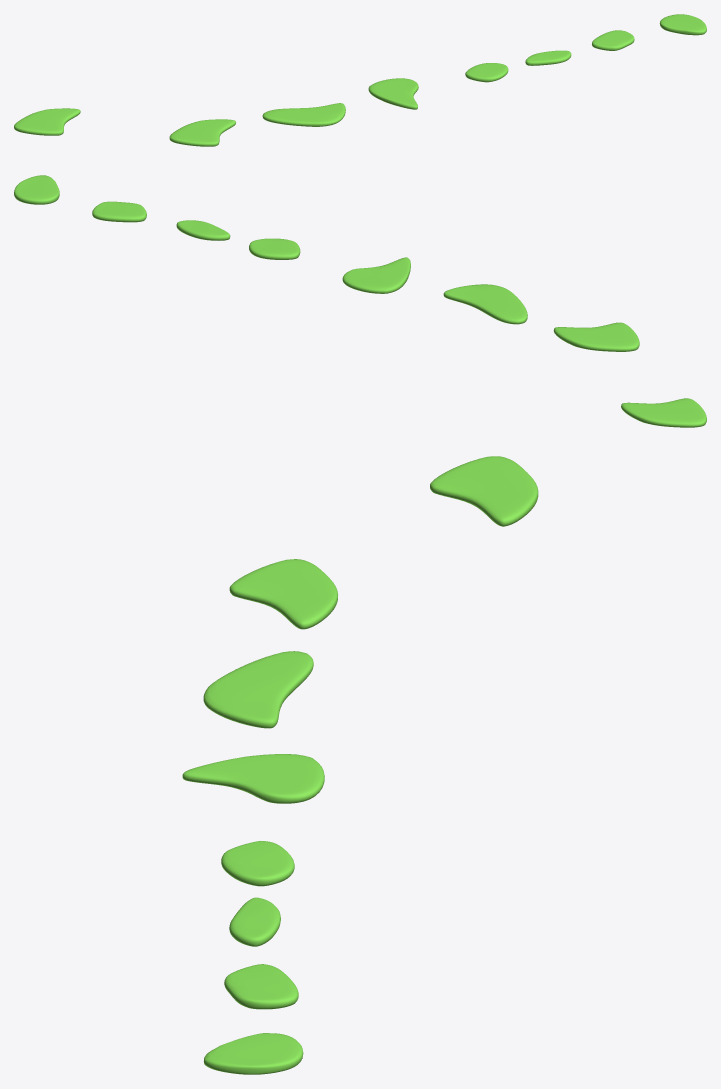
The model's file is Islands.fbx.
3 views of the same model, one above another, from view 1: azimuth 30°, elevation 25°; view 2: azimuth 150°, elevation 25°; view 3: azimuth 270°, elevation 25° (orthographic). The views are drawn at different scales.
Parts seen in each view (by area): view 1: Island2, Island1, Template, Island3, Island7Small, Island6Small, Island4Small, Island5Small; view 2: Island2, Island1, Template, Island3, Island7Small, Island6Small, Island4Small, Island5Small; view 3: Island2, Island3, Island1, Template, Island7Small, Island6Small, Island4Small, Island5Small.
Part boxes in pixels (left/top/right/bottom): Island2: left=262, top=103, right=345, bottom=126; Island1: left=169, top=119, right=235, bottom=146; Template: left=14, top=108, right=80, bottom=135; Island3: left=368, top=78, right=418, bottom=109; Island7Small: left=659, top=14, right=706, bottom=35; Island6Small: left=592, top=30, right=634, bottom=50; Island4Small: left=465, top=63, right=508, bottom=82; Island5Small: left=525, top=50, right=571, bottom=65; Island2: left=443, top=284, right=527, bottom=324; Island1: left=553, top=322, right=639, bottom=351; Template: left=621, top=398, right=706, bottom=427; Island3: left=342, top=257, right=410, bottom=293; Island7Small: left=14, top=175, right=59, bottom=204; Island6Small: left=92, top=201, right=146, bottom=222; Island4Small: left=249, top=238, right=300, bottom=259; Island5Small: left=176, top=220, right=230, bottom=240; Island2: left=203, top=651, right=313, bottom=728; Island3: left=182, top=754, right=324, bottom=803; Island1: left=229, top=559, right=337, bottom=629; Template: left=430, top=456, right=538, bottom=526; Island7Small: left=203, top=1033, right=303, bottom=1074; Island6Small: left=224, top=964, right=298, bottom=1009; Island4Small: left=221, top=841, right=294, bottom=886; Island5Small: left=229, top=897, right=280, bottom=946.
Bounding box in the file's own units: 6598 × 55.07 × 1626.
